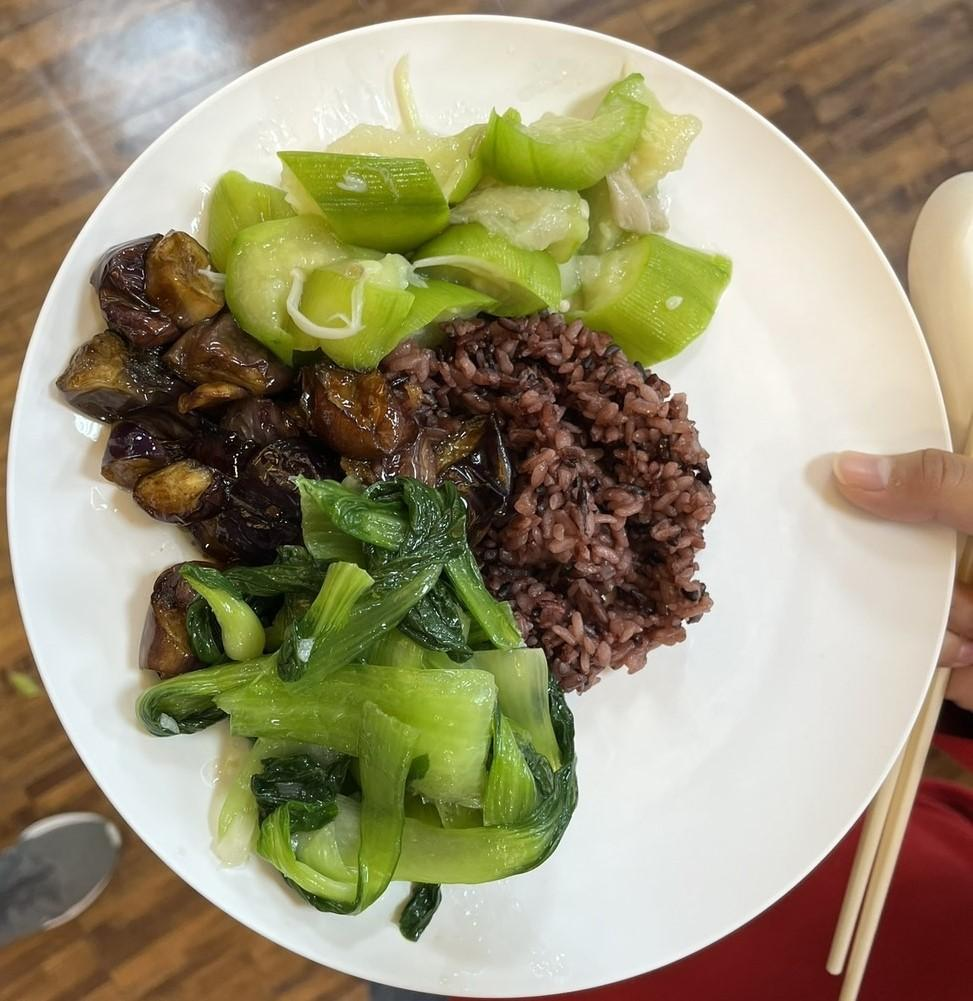big fried chicken leg: (3, 16, 967, 1001)
braised fish: (361, 305, 719, 682)
braised fish fillet: (151, 473, 579, 938), (205, 90, 740, 359), (61, 225, 407, 564)
